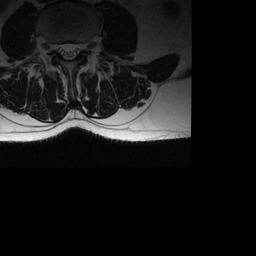CCS_normal: (64, 31, 71, 69)
LFS_normal: (80, 32, 89, 59)
LLS_normal: (71, 34, 80, 62)
RFS_normal: (47, 31, 56, 61)
RLS_normal: (56, 34, 64, 60)
